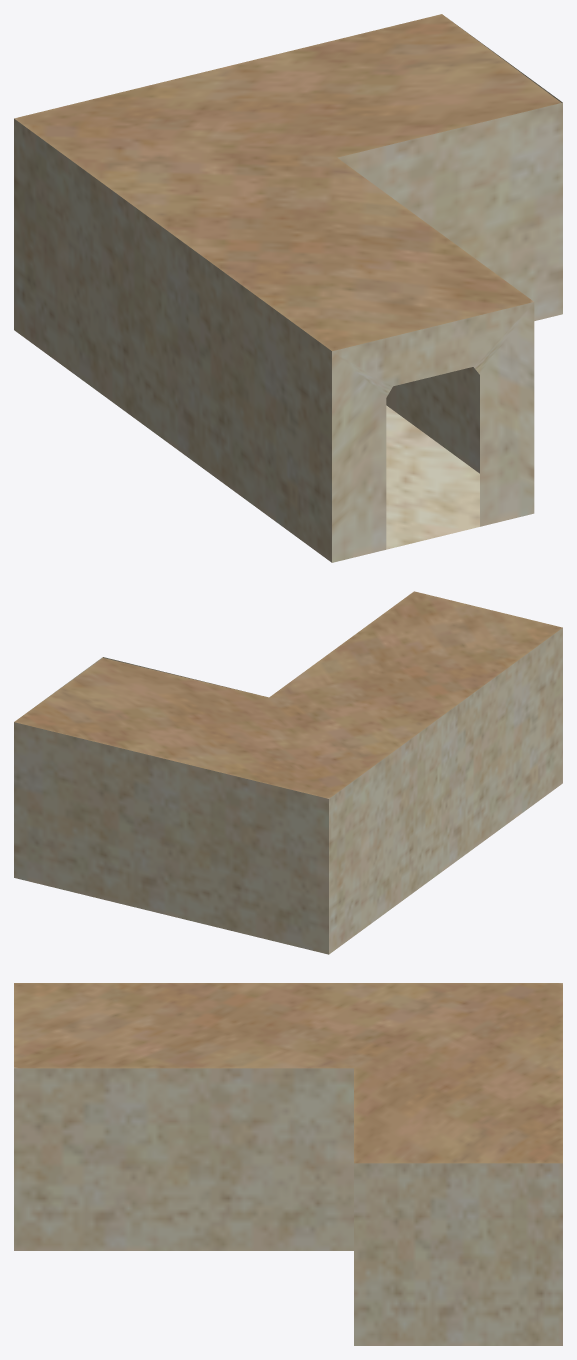
Rendered from thm_tato_imprv_building_s10_r1_foyer_mesh_l1.fbx.
3 renders of one model, top to bottom at view 1: azimuth 30°, elevation 25°; view 2: azimuth 150°, elevation 25°; view 3: azimuth 270°, elevation 25°, orthographic. The views are drawn at different scales.
Visible parts, largest first — view 1: mesh_node; view 2: mesh_node; view 3: mesh_node.
Boxes of the visible parts, box(x1,y1,x2,y2) form: mesh_node: box(14, 14, 562, 562); mesh_node: box(14, 591, 562, 954); mesh_node: box(14, 983, 562, 1345).
Size of the model in its own units: 8.46 by 4 by 10.9.
